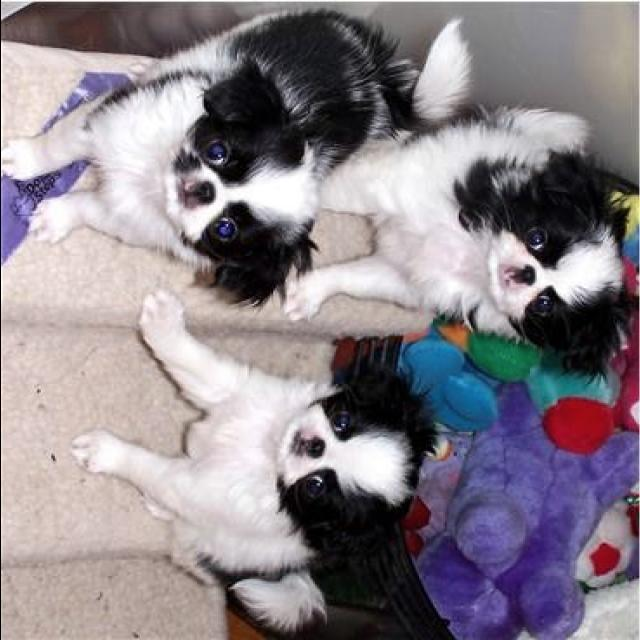husky: (2, 9, 468, 308), (69, 283, 437, 632), (278, 107, 632, 379)
